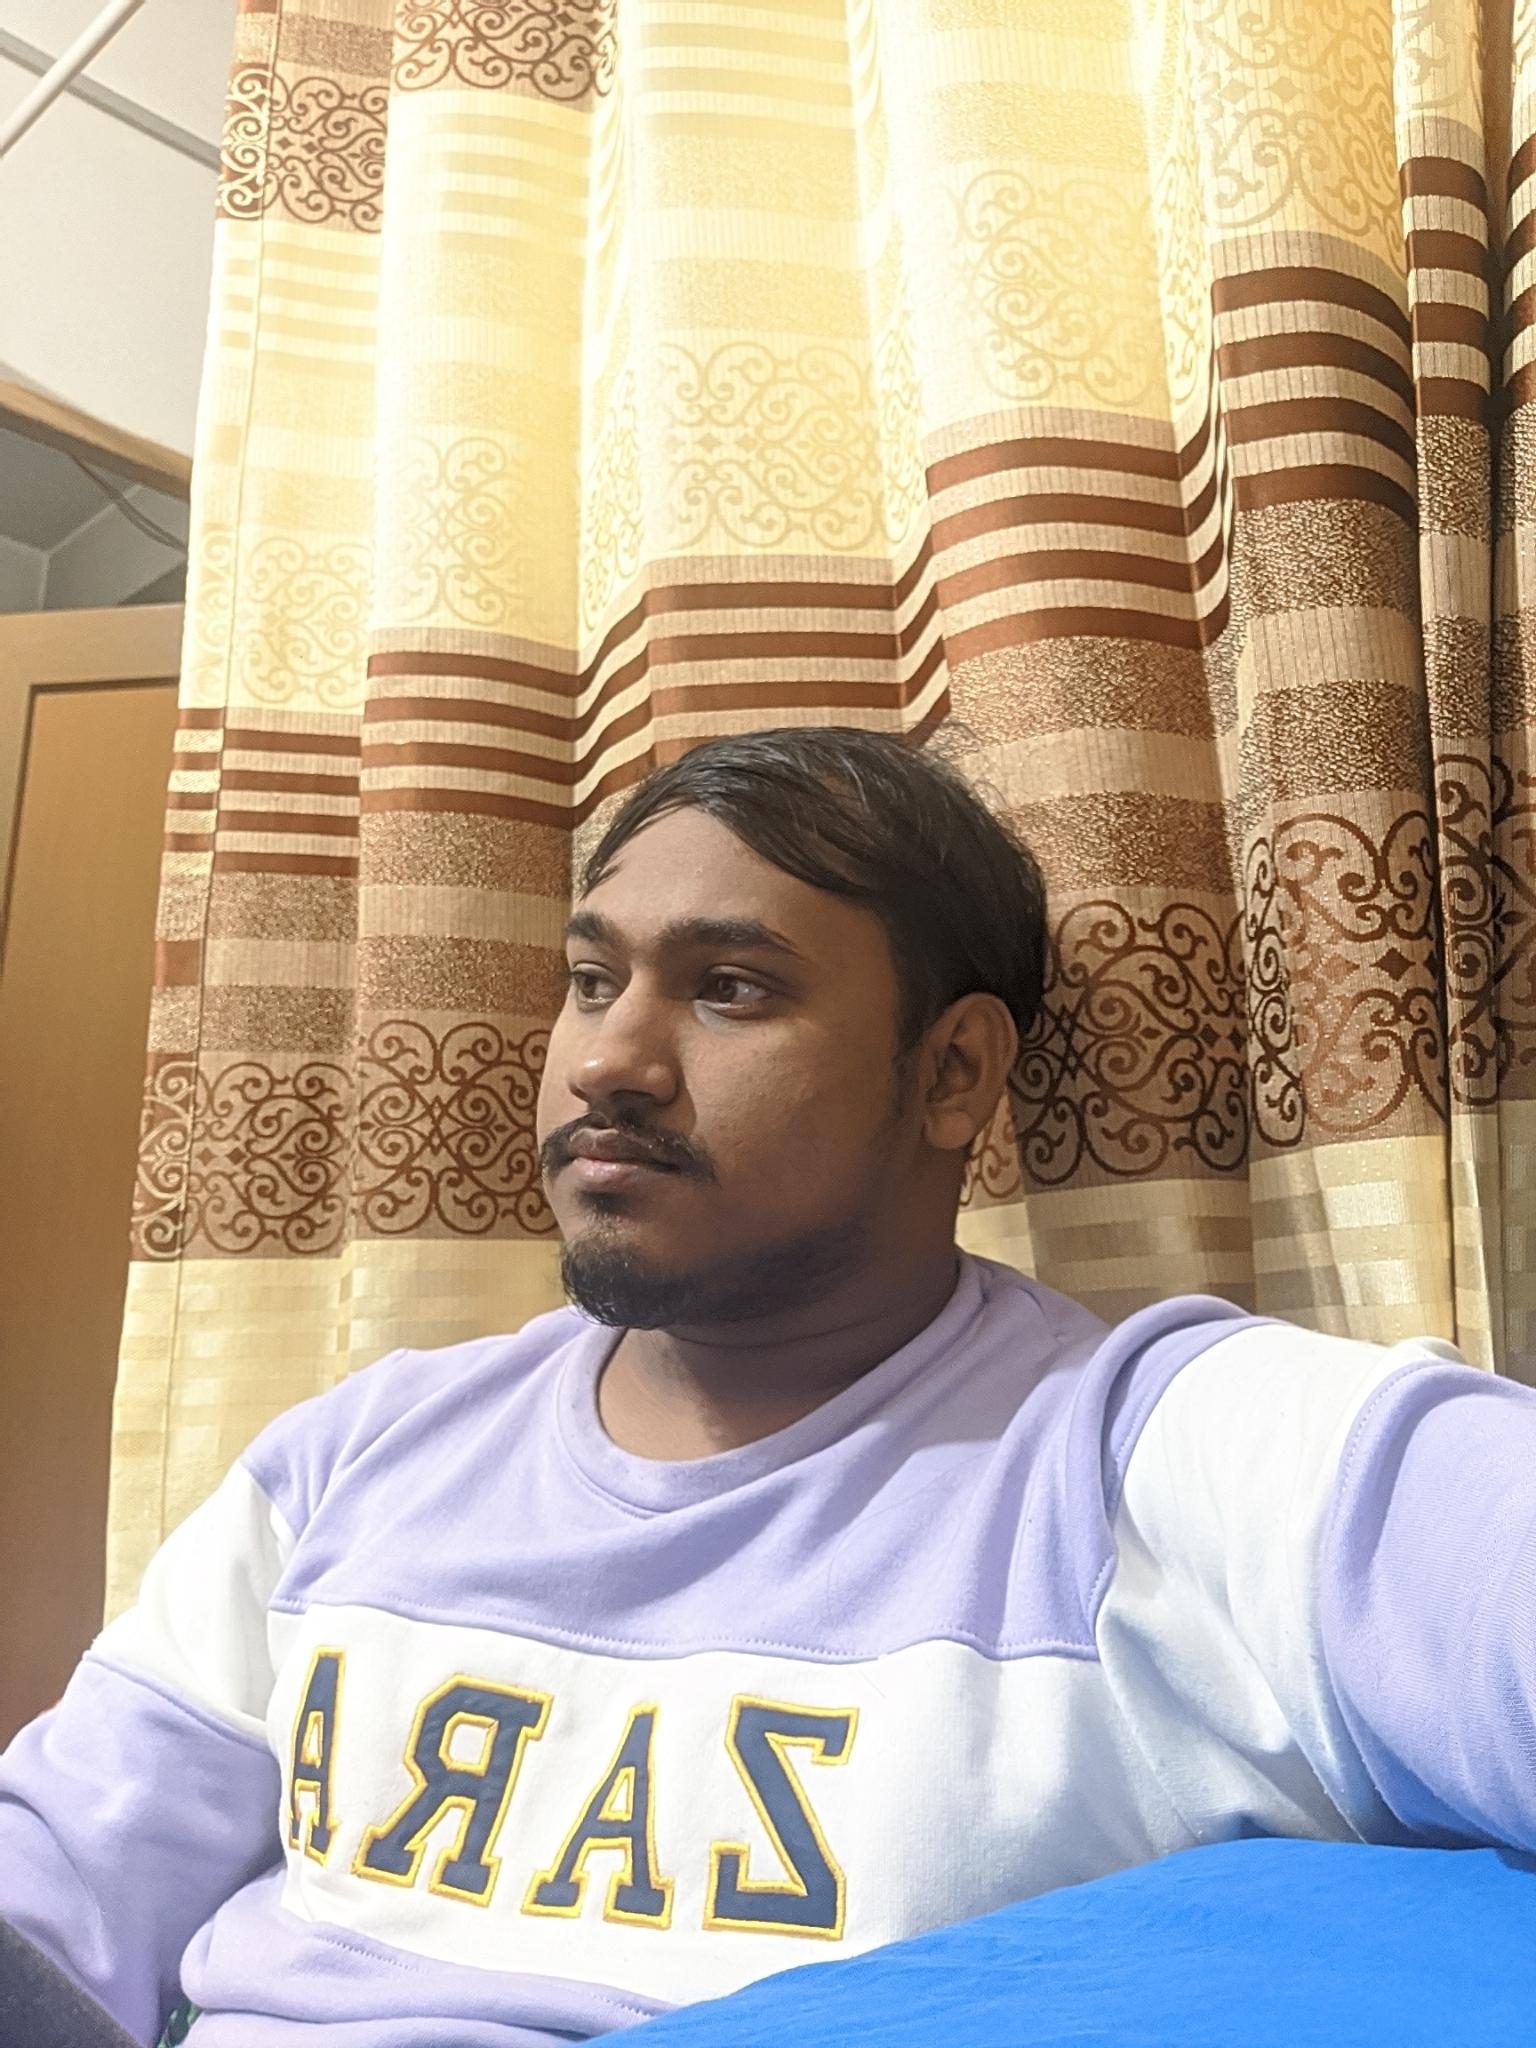Neutral: (499, 885, 816, 1314)
